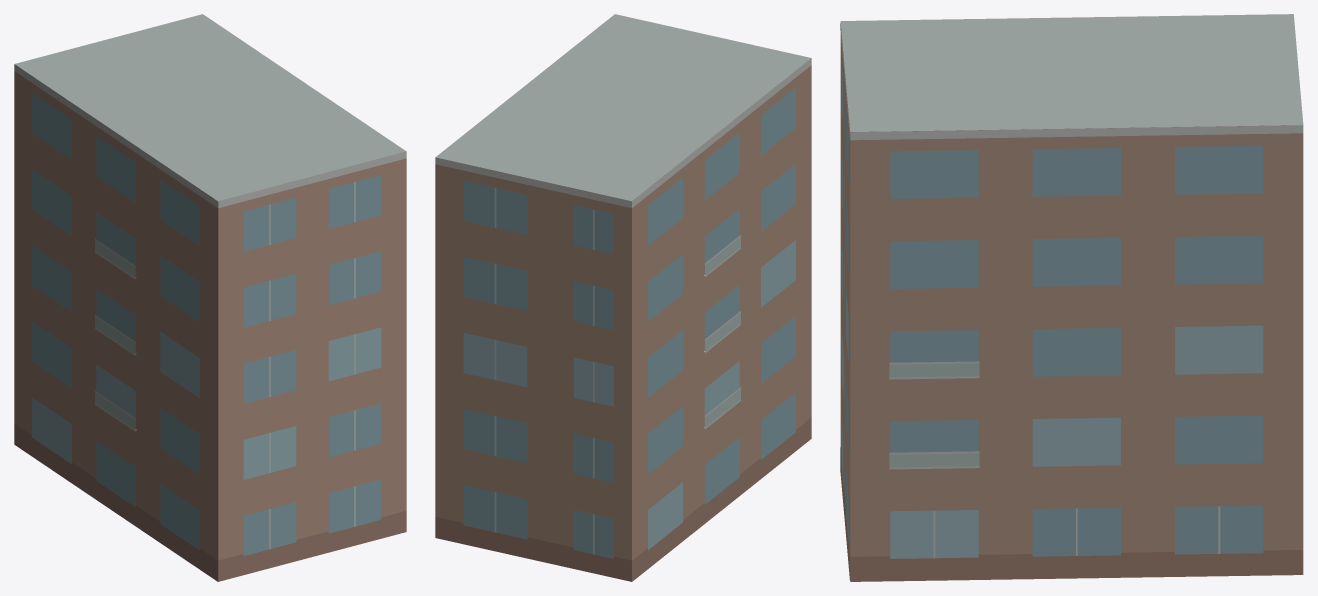
The model's file is survey-upis-32549394.glb.
3 renders of one model, left to right at view 1: azimuth 30°, elevation 25°; view 2: azimuth 150°, elevation 25°; view 3: azimuth 270°, elevation 25°, orthographic. The views are drawn at different scales.
Visible parts, largest first — view 1: survey-upis-32549394.tmp; view 2: survey-upis-32549394.tmp; view 3: survey-upis-32549394.tmp.
Boxes of the visible parts, x1,y1,x2,y2 form: survey-upis-32549394.tmp: [14, 14, 406, 581]; survey-upis-32549394.tmp: [435, 14, 811, 581]; survey-upis-32549394.tmp: [840, 14, 1303, 581].
Bounding box in the file's own units: 7.55 × 13.4 × 12.51.
